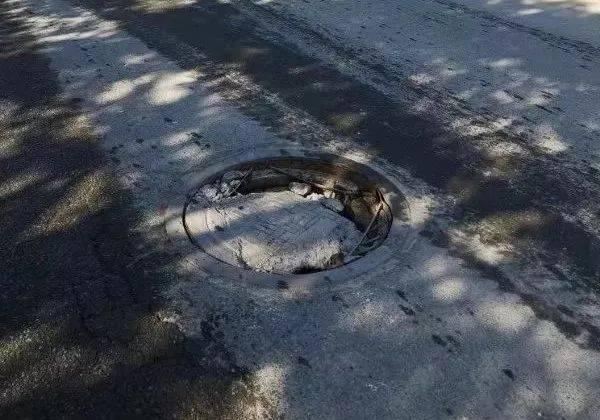wellcover: (175, 146, 422, 284)
